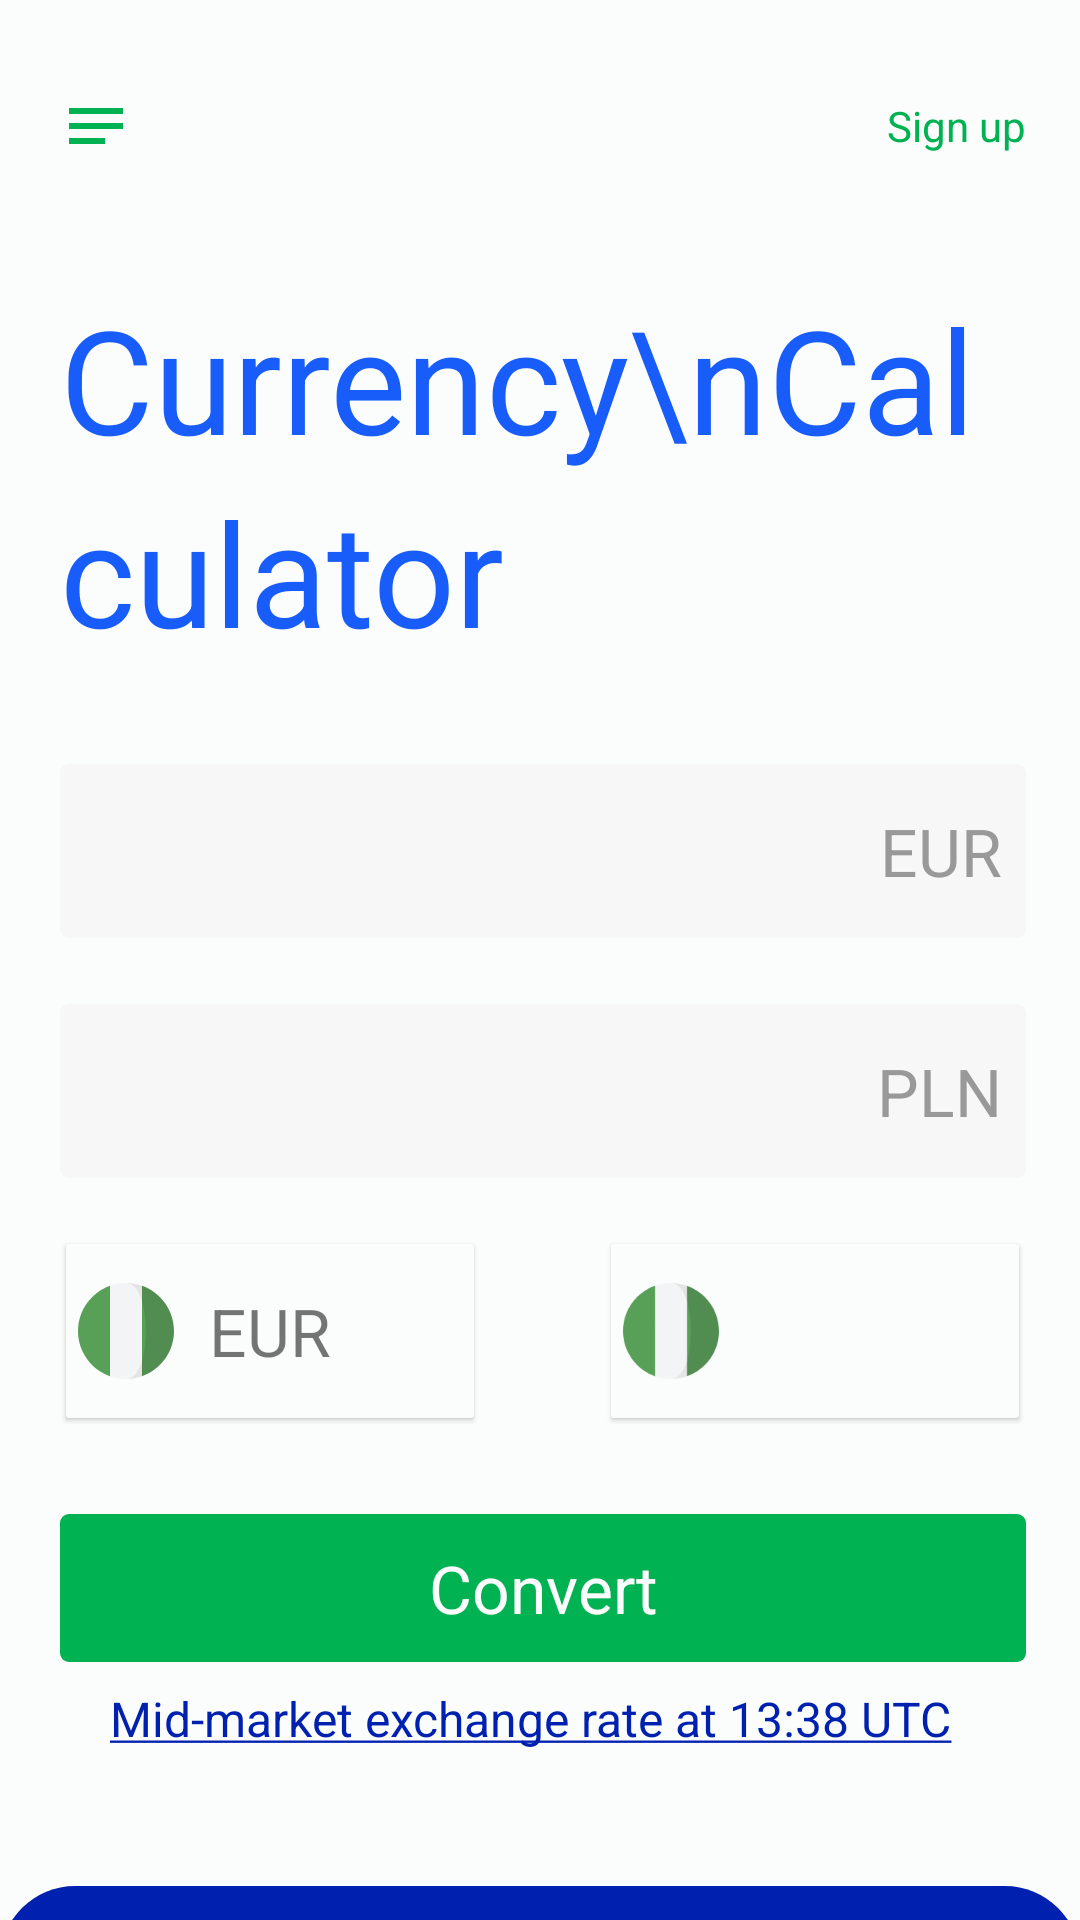

Locate icon controls on the screen. Image size 1080×1920, boxes as (x1, y1, x2, y2).
menu: (69, 108, 123, 144)
nigeria: (78, 1286, 174, 1376), (623, 1286, 719, 1376)
